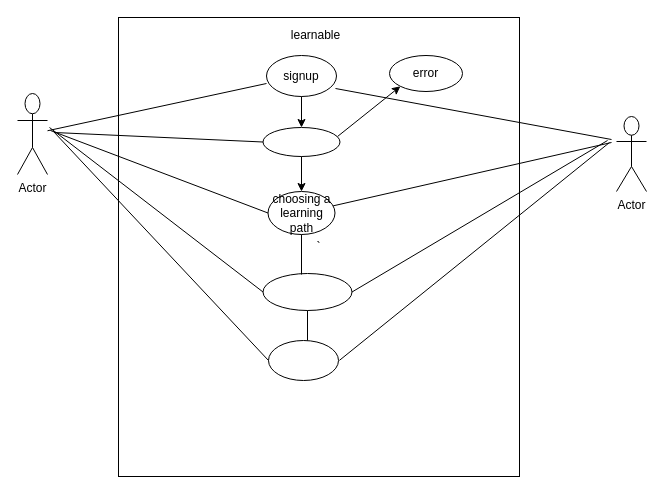
The diagram is 664 pixels wide and 494 high, and some of its shapes have lost their labels. The centre of each missing label's shape, as x and y in pixels:
login: the point at 301,141
release of videos: the point at 307,291
task: the point at 303,360
